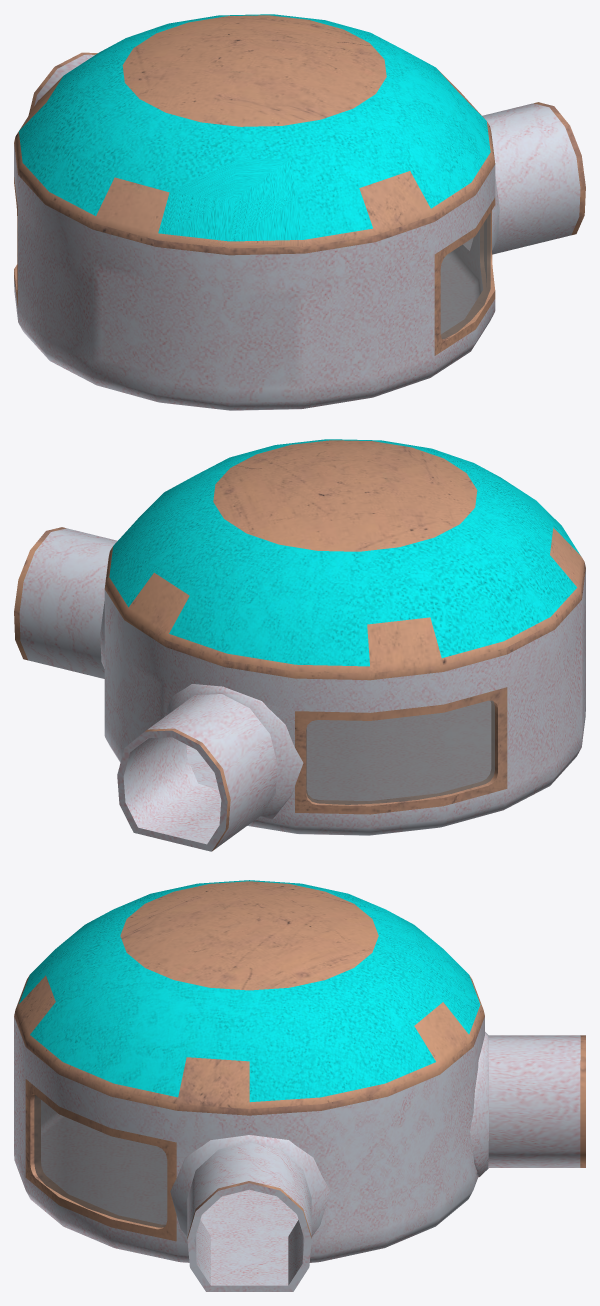
Rendered from arc_sci_base_Domehouse_Dome_A.gltf.
3 renders of one model, top to bottom at view 1: azimuth 30°, elevation 25°; view 2: azimuth 150°, elevation 25°; view 3: azimuth 270°, elevation 25°, orthographic. The views are drawn at different scales.
Visible parts, largest first — view 1: arc_sci_base_Domehouse_Dome_A(Clone); view 2: arc_sci_base_Domehouse_Dome_A(Clone); view 3: arc_sci_base_Domehouse_Dome_A(Clone).
Part boxes in pixels (<box>): arc_sci_base_Domehouse_Dome_A(Clone): <box>14,14,585,410</box>; arc_sci_base_Domehouse_Dome_A(Clone): <box>14,439,585,851</box>; arc_sci_base_Domehouse_Dome_A(Clone): <box>14,880,585,1291</box>.
Bounding box in the file's own units: 12.46 × 6.13 × 12.46.
Materials: 5 (4 with a texture image).
